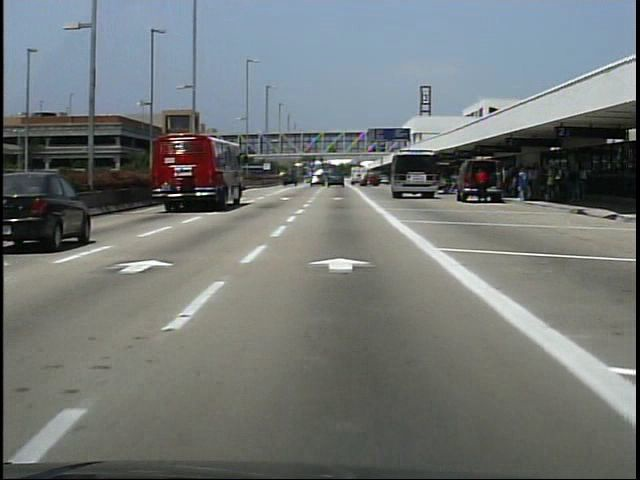person: (475, 164, 491, 205)
